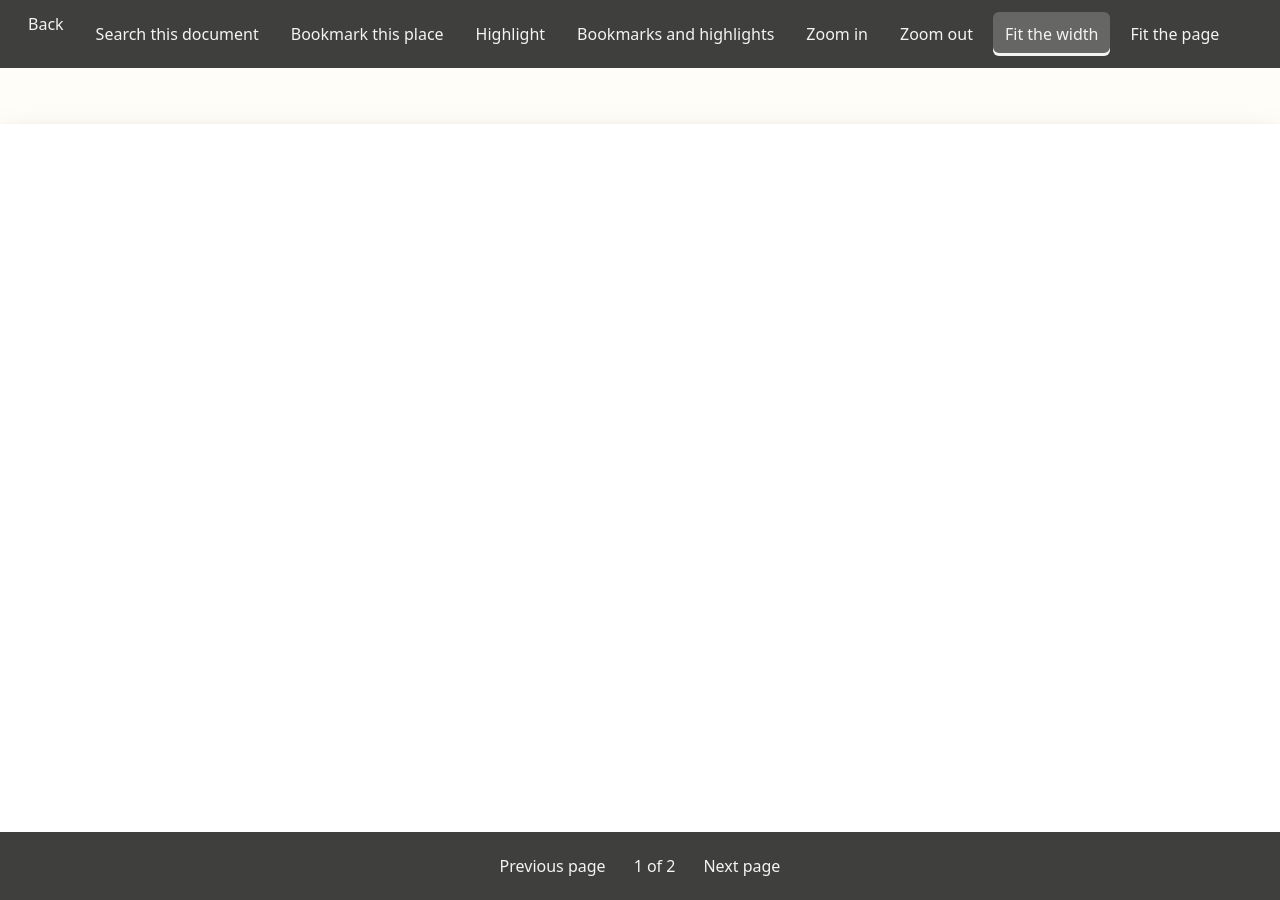
Test: Book Reader (PDF) › says when a document has no text to search
Expected: the message reads "1 of 2", 634,855 -> 675,877
Click the button "Search this document".
click(177, 34)  # box 84,12 -> 271,56
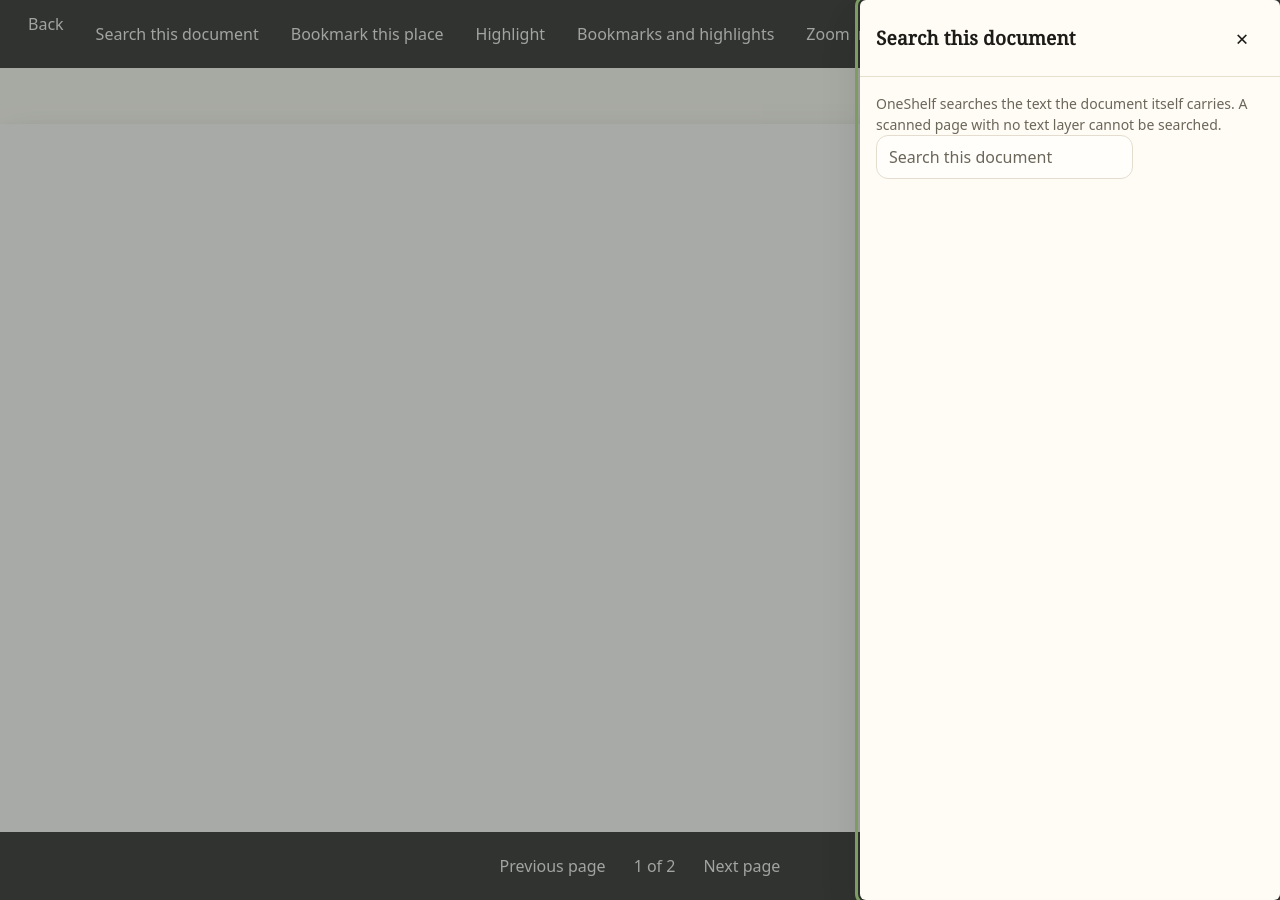
Type "zzzz" into the search field.
click(1004, 157); type("zzzz")  # box 876,135 -> 1133,179
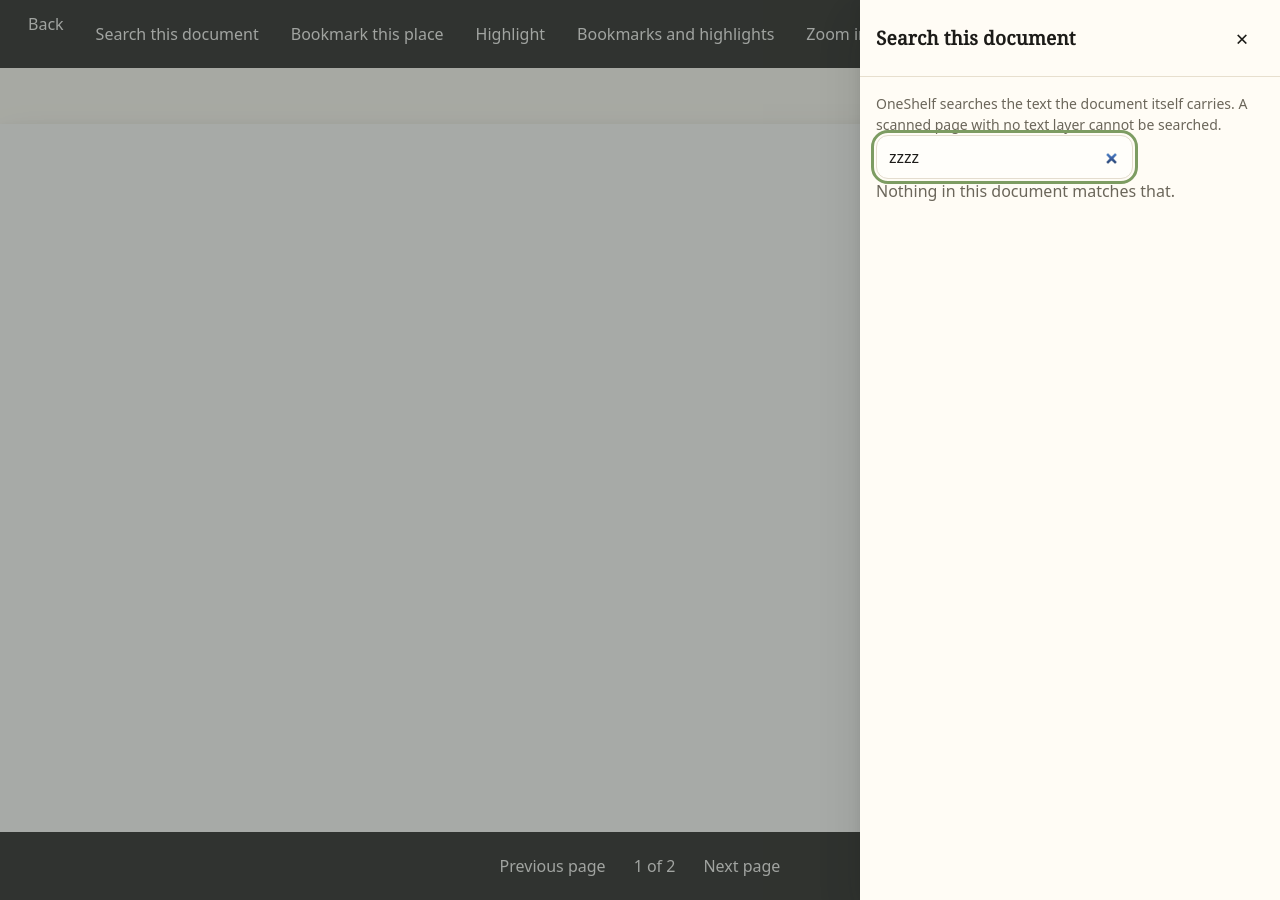
Now the text "Nothing in this document matches that." is shown, box 876,180 -> 1175,202
